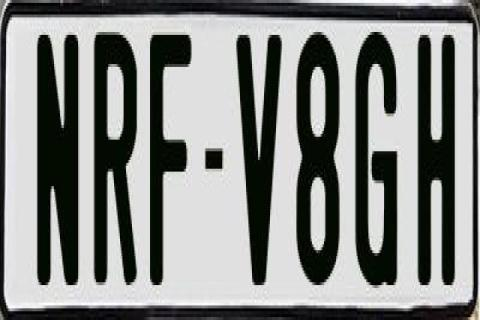0: (296, 32, 340, 291)
F: (148, 35, 191, 297)
G: (354, 24, 400, 282)
H: (416, 29, 458, 297)
N: (34, 32, 78, 300)
R: (90, 27, 134, 297)
V: (232, 29, 282, 285)
